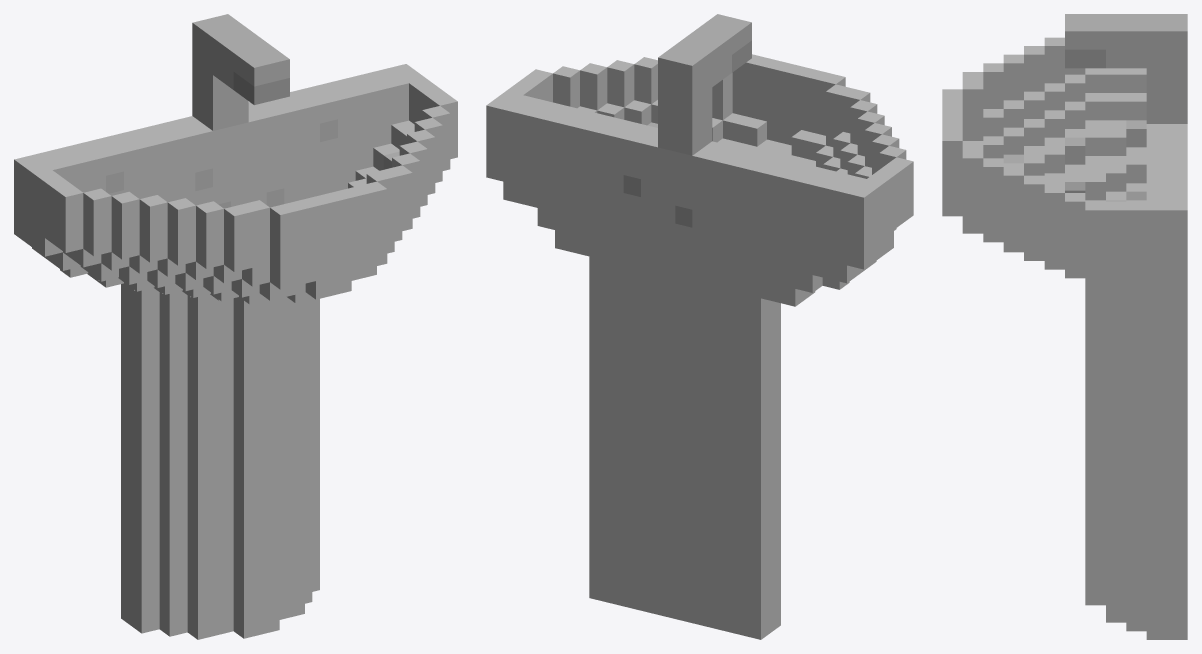
The model's file is sink1.obj.
3 renders of one model, left to right at view 1: azimuth 30°, elevation 25°; view 2: azimuth 150°, elevation 25°; view 3: azimuth 270°, elevation 25°, orthographic. The views are drawn at different scales.
Bounding box in the file's own units: 2.2 × 3.1 × 1.2.
Materials: 1 (1 with a texture image).
